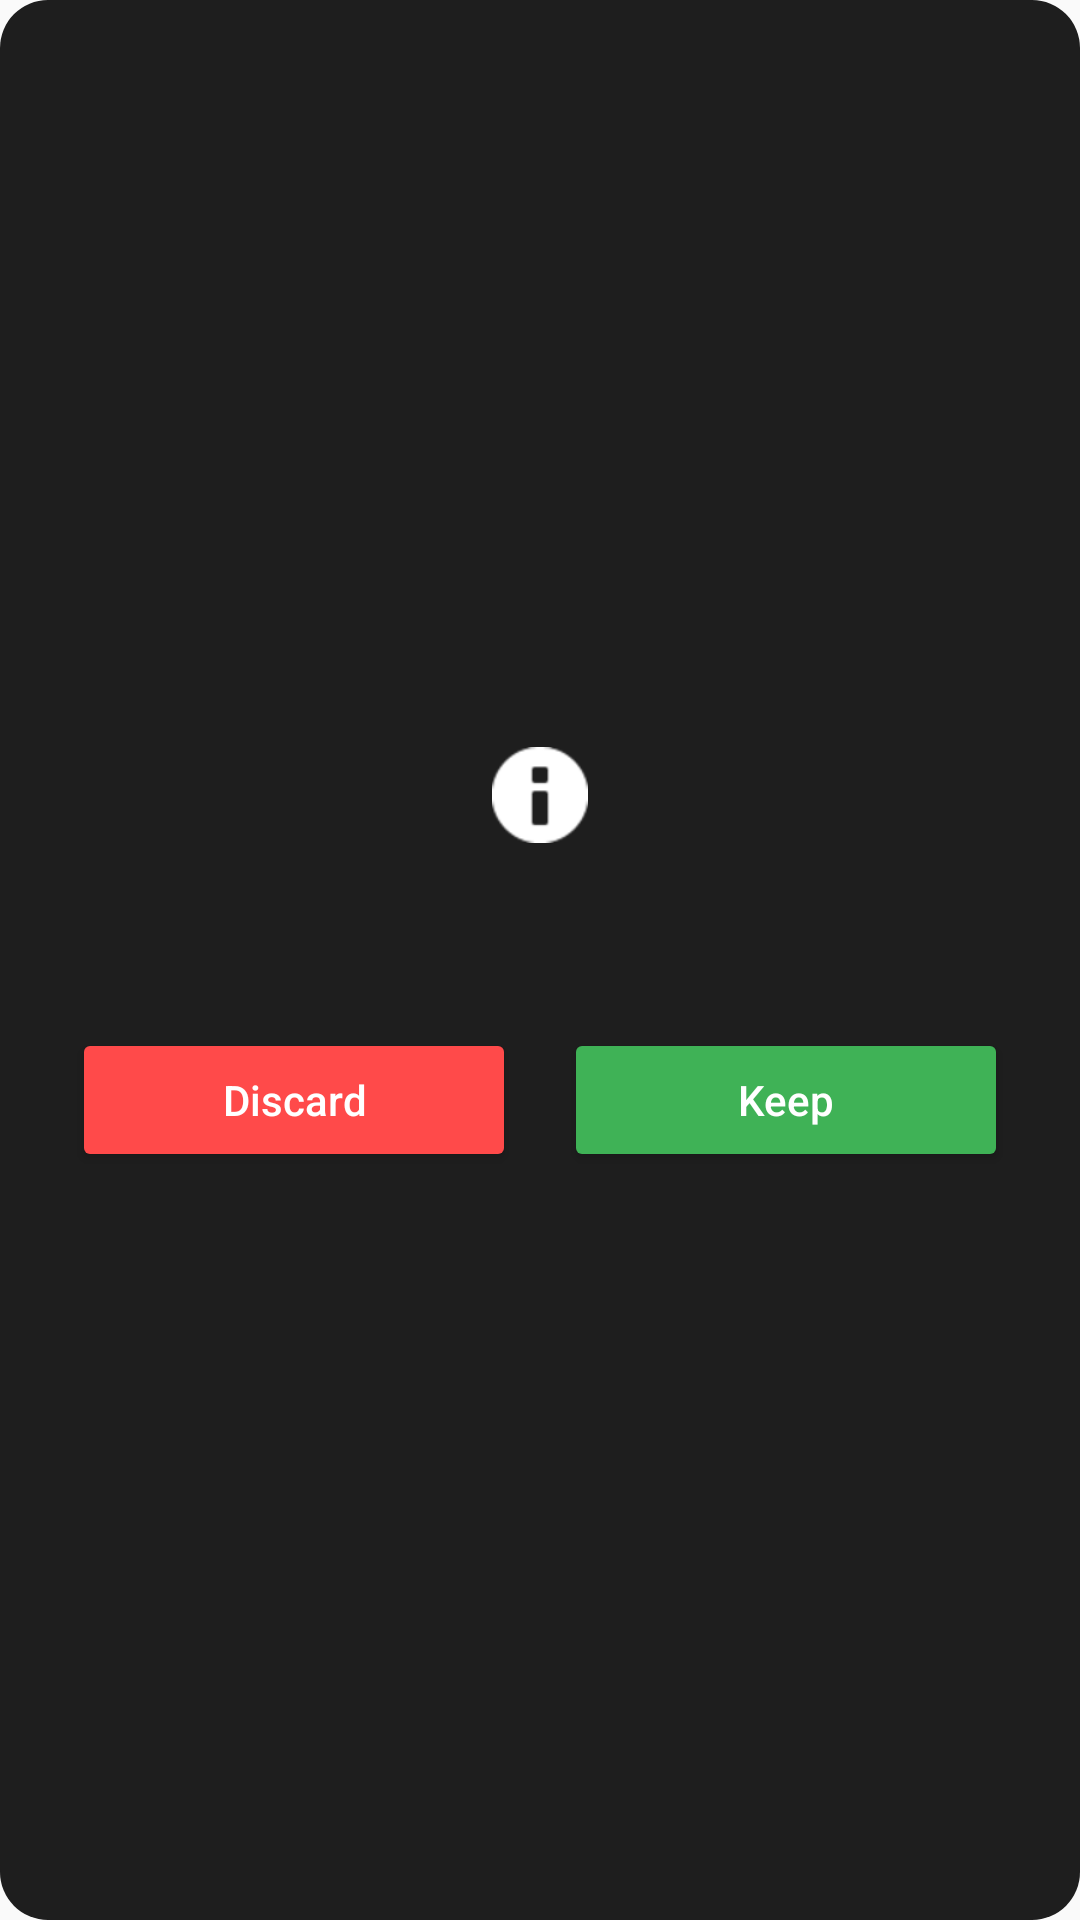

Icon click points for this 1080w x 1920h phone screenshot, format point (x, y):
Info Icon: point (540, 795)
